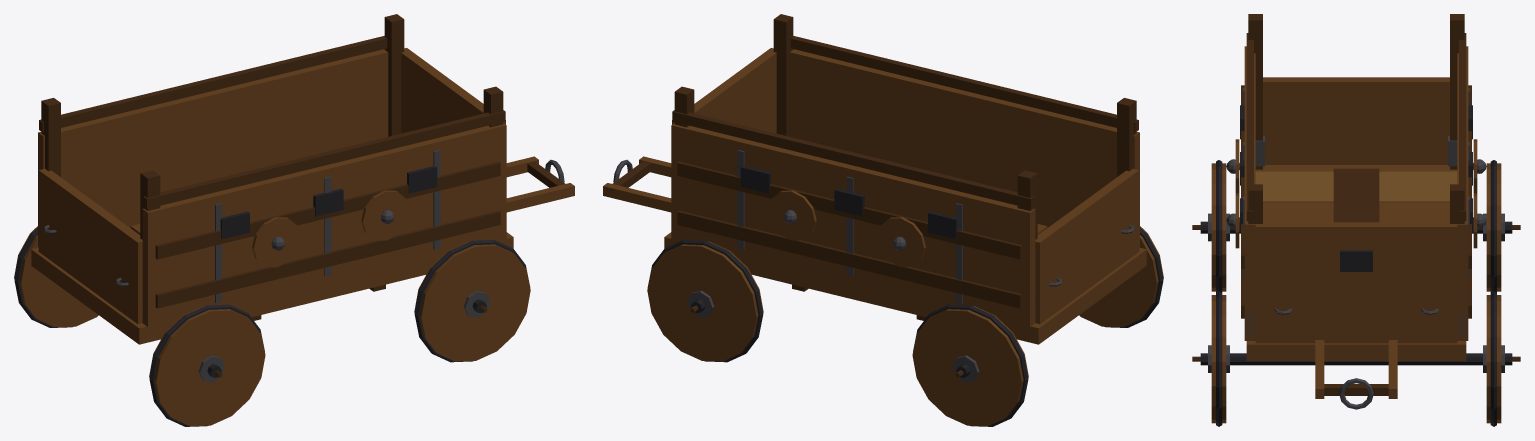
Rendered from war_wagon.glb.
The picture shows the model from 3 angles, left to right: view 1: azimuth 30°, elevation 25°; view 2: azimuth 150°, elevation 25°; view 3: azimuth 270°, elevation 25°; orthographic projection.
Visible parts, largest first — view 1: SideWall_Right, SideWall_Left, Wheel_0, Wheel_2, RearWall, WagonBed, Reinforce_Left_0.15, TopRail_-0.58, TopRail_0.58, FrontWall, Reinforce_Left_0.45, Wheel_1 (+14 smaller); view 2: SideWall_Left, SideWall_Right, Wheel_1, Wheel_3, RearWall, WagonBed, Reinforce_Right_0.15, TopRail_0.58, TopRail_-0.58, FrontWall, Reinforce_Right_0.45, Wheel_0 (+14 smaller); view 3: FrontWall, RearWall, WagonBed, FloorPlank_0, FloorPlank_1, Bench, SideWall_Right, SideWall_Left, Axle_0.85, TopRail_-0.58, TopRail_0.58, Wheel_0 (+18 smaller).
Part boxes in pixels (box(x1,y1,x2,y2)): SideWall_Right: box(38, 49, 388, 246); SideWall_Left: box(142, 123, 506, 326); Wheel_0: box(149, 306, 265, 426); Wheel_2: box(414, 241, 530, 361); RearWall: box(38, 169, 142, 324); WagonBed: box(31, 232, 513, 344); Reinforce_Left_0.15: box(155, 210, 500, 308); TopRail_-0.58: box(143, 110, 505, 208); TopRail_0.58: box(39, 36, 387, 132); FrontWall: box(401, 48, 505, 133); Reinforce_Left_0.45: box(155, 161, 500, 259); Wheel_1: box(14, 226, 98, 327); SideWall_Left: box(789, 49, 1139, 246); SideWall_Right: box(671, 123, 1035, 326); Wheel_1: box(912, 306, 1028, 426); Wheel_3: box(647, 241, 763, 361); RearWall: box(1035, 169, 1139, 324); WagonBed: box(664, 232, 1146, 344); Reinforce_Right_0.15: box(677, 210, 1022, 308); TopRail_0.58: box(672, 110, 1034, 208); TopRail_-0.58: box(790, 36, 1138, 132); FrontWall: box(672, 48, 776, 133); Reinforce_Right_0.45: box(677, 161, 1022, 259); Wheel_0: box(1079, 226, 1163, 327); FrontWall: box(1255, 222, 1457, 343); RearWall: box(1263, 77, 1449, 164); WagonBed: box(1246, 165, 1466, 361); FloorPlank_0: box(1255, 171, 1457, 202); FloorPlank_1: box(1263, 202, 1449, 222); Bench: box(1333, 168, 1379, 222); SideWall_Right: box(1457, 46, 1468, 340); SideWall_Left: box(1244, 46, 1255, 340); Axle_0.85: box(1200, 353, 1512, 365); TopRail_-0.58: box(1246, 33, 1253, 221); TopRail_0.58: box(1459, 33, 1466, 221); Wheel_0: box(1211, 163, 1226, 291).
Size of the model in its own units: 3.05 by 1.52 by 1.79.
